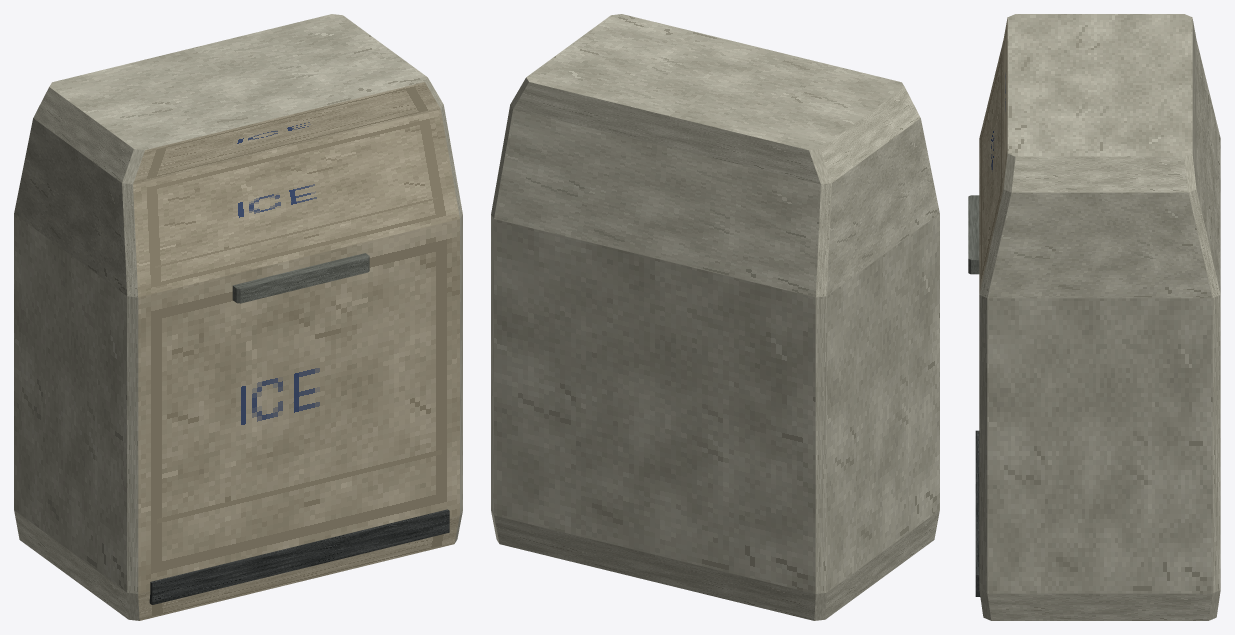
Rendered from ice_machine.glb.
3 renders of one model, left to right at view 1: azimuth 30°, elevation 25°; view 2: azimuth 150°, elevation 25°; view 3: azimuth 270°, elevation 25°, orthographic.
Visible parts, largest first — view 1: Body; view 2: Body; view 3: Body.
Part boxes in pixels (x1=…): Body: x1=14, y1=14, x2=462, y2=620; Body: x1=491, y1=14, x2=939, y2=620; Body: x1=968, y1=14, x2=1220, y2=620.
Bounding box in the file's own units: 0.96 × 1.25 × 0.6275.
1 material, 1 textured.
